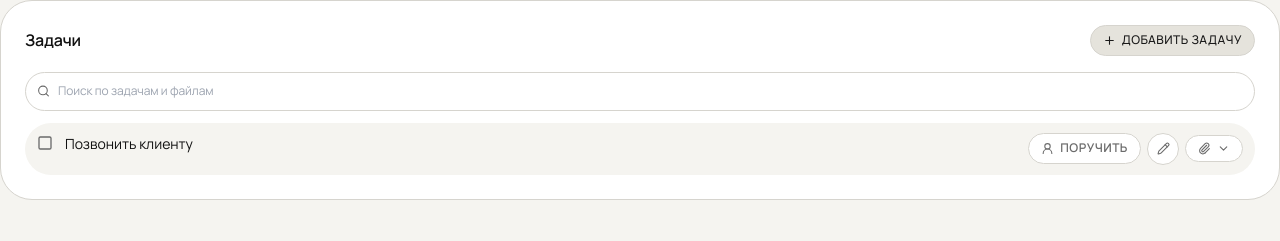
Test: TasksTab — a refused action › reports a failed completion instead of doing nothing
The width and height of the screenshot is (1280, 241).
Check: the text "Позвонить клиенту" is shown, box x1=65 y1=134 x2=193 y2=153
Click the button named "Отметить выполненной": [45, 143] box x1=37 y1=135 x2=53 y2=151
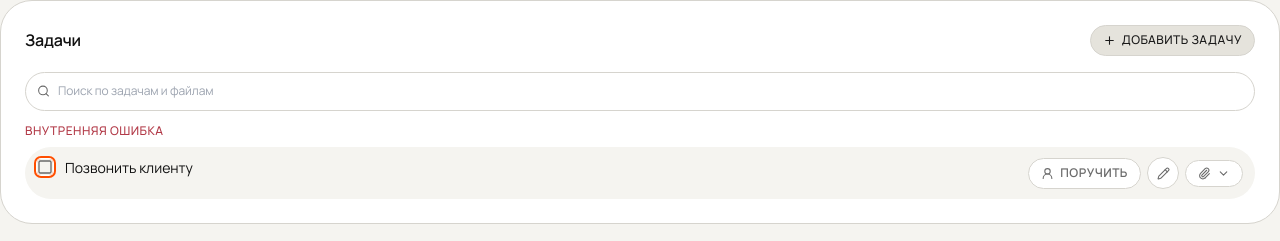
Check: the message reads "Внутренняя ошибка", box x1=25 y1=122 x2=164 y2=139
